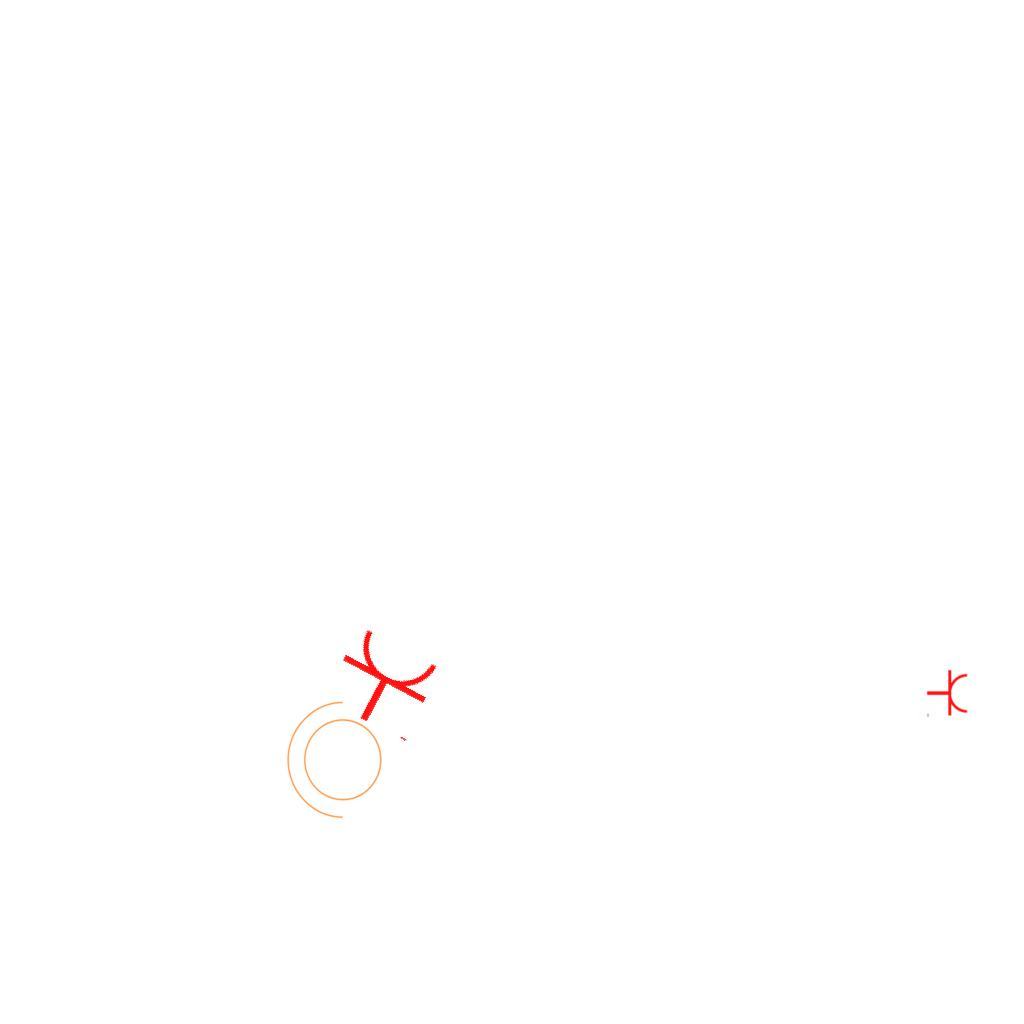Scheinwerfer_fuer_Alarmbeleuchtung: (282, 697, 394, 829)
Schukosteckdose_einfach: (319, 622, 450, 746), (926, 669, 969, 719)
